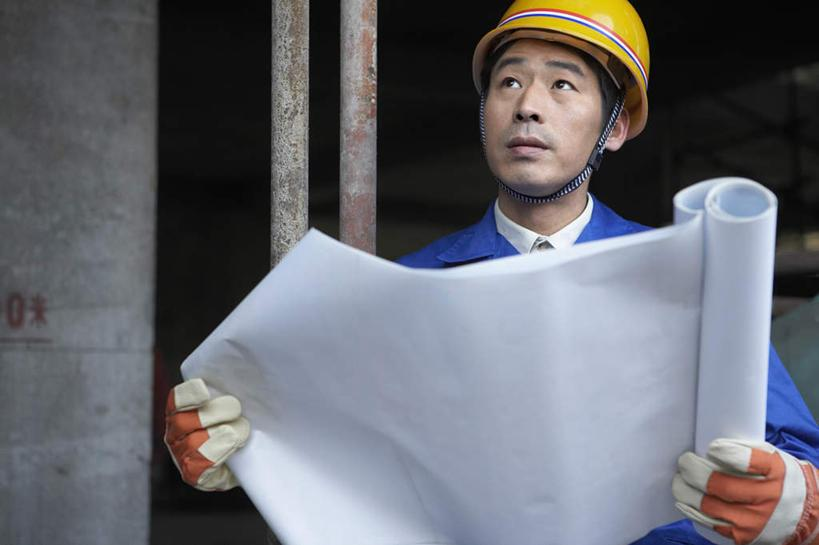helmet: (466, 1, 658, 138)
